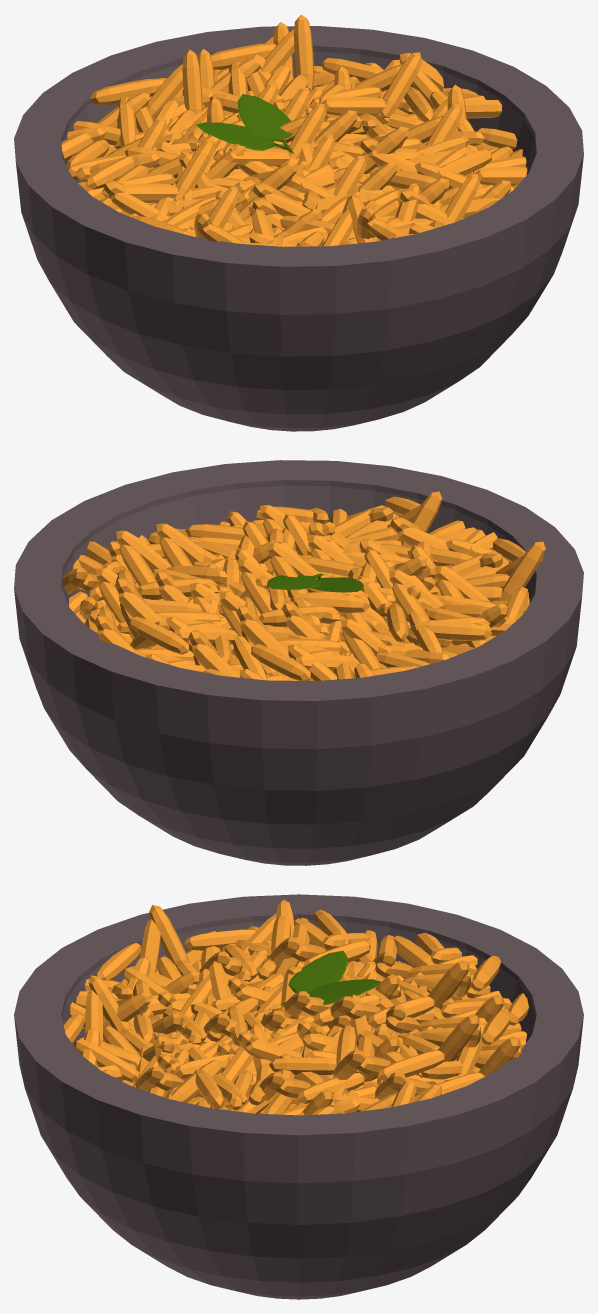
File: ArrozMexicano.fbx
3 renders of one model, top to bottom at view 1: azimuth 30°, elevation 25°; view 2: azimuth 150°, elevation 25°; view 3: azimuth 270°, elevation 25°, orthographic.
Visible parts, largest first — view 1: MacBowlBlue, Cube.056, Cube.055, Cube.006, Cube.057, Cube.054, Cube.052, Cube.053, Cube.048, Cube.050, Cube.058, Cube.059 (+2 smaller); view 2: MacBowlBlue, Cube.056, Cube.055, Cube.006, Cube.057, Cube.052, Cube.053, Cube.048, Cube.050, Cube.051, Cube.049, Cube.054 (+2 smaller); view 3: MacBowlBlue, Cube.055, Cube.056, Cube.006, Cube.057, Cube.052, Cube.053, Cube.048, Cube.049, Cube.050, Cube.054, Cube.051 (+2 smaller).
Boxes of the visible parts, box(x1,y1,x2,y2) form: MacBowlBlue: box(14, 26, 583, 431); Cube.056: box(61, 50, 311, 210); Cube.055: box(172, 14, 422, 174); Cube.006: box(253, 136, 501, 241); Cube.057: box(104, 141, 355, 246); Cube.054: box(365, 84, 527, 226); Cube.052: box(150, 142, 420, 246); Cube.053: box(238, 66, 462, 205); Cube.048: box(247, 53, 501, 161); Cube.050: box(78, 97, 335, 236); Cube.058: box(237, 94, 293, 153); Cube.059: box(196, 122, 287, 150); MacBowlBlue: box(14, 460, 583, 865); Cube.056: box(236, 549, 492, 680); Cube.055: box(114, 521, 378, 679); Cube.006: box(185, 491, 442, 576); Cube.057: box(275, 538, 545, 645); Cube.052: box(309, 516, 529, 610); Cube.053: box(155, 514, 395, 629); Cube.048: box(62, 541, 276, 649); Cube.050: box(282, 545, 529, 676); Cube.051: box(188, 573, 452, 680); Cube.049: box(94, 558, 345, 680); Cube.054: box(107, 505, 362, 599); MacBowlBlue: box(14, 894, 583, 1299); Cube.055: box(238, 966, 511, 1081); Cube.056: box(227, 910, 501, 1027); Cube.006: box(63, 961, 323, 1109); Cube.057: box(96, 899, 375, 1046); Cube.052: box(70, 936, 305, 1061); Cube.053: box(157, 986, 418, 1103); Cube.048: box(223, 994, 485, 1115); Cube.049: box(279, 1015, 526, 1099); Cube.050: box(157, 926, 424, 1031); Cube.054: box(135, 1039, 360, 1114); Cube.051: box(262, 953, 528, 1042).
Size of the model in its own units: 604 by 354 by 604.
